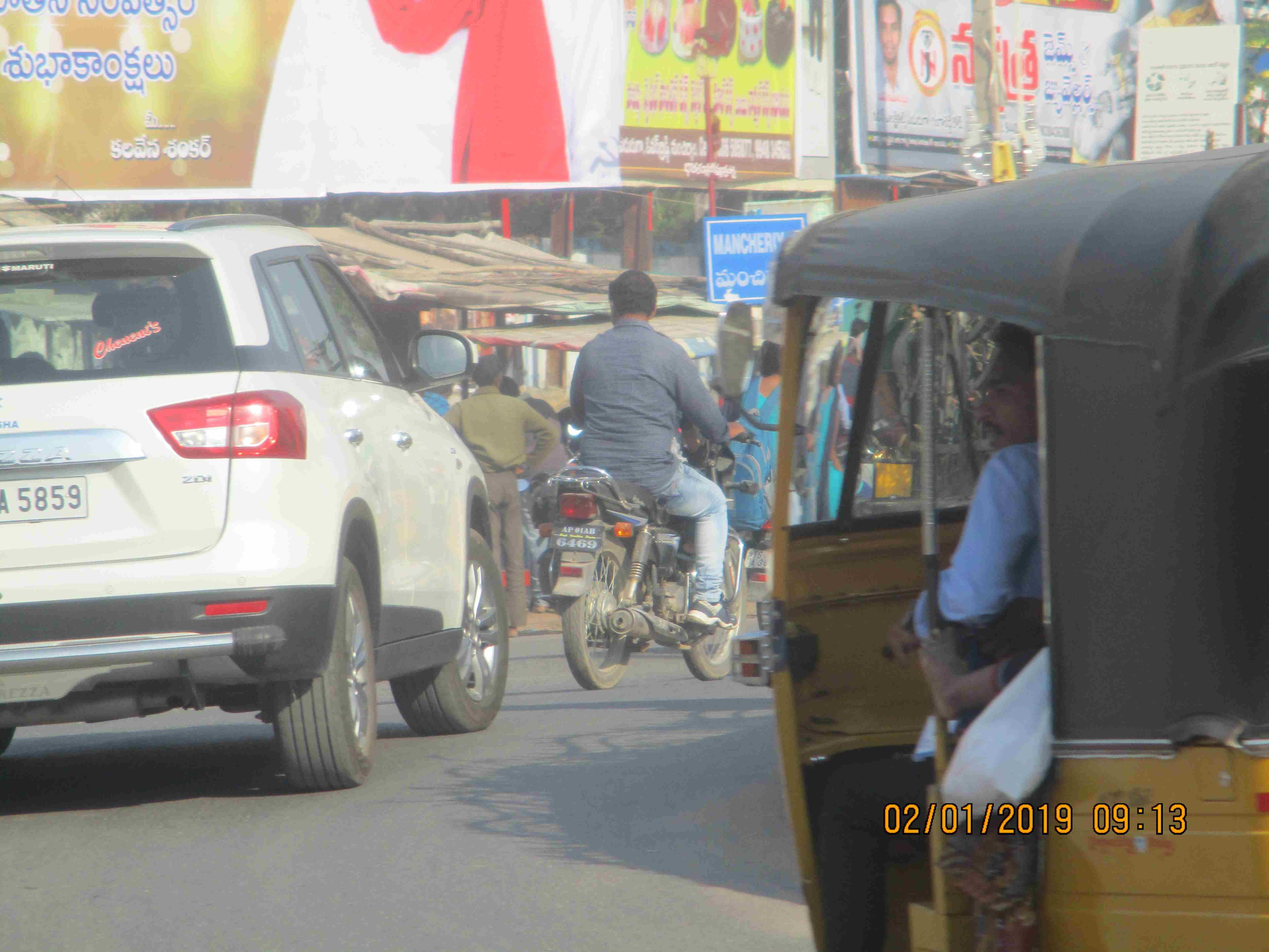plate: (546, 519, 605, 557)
